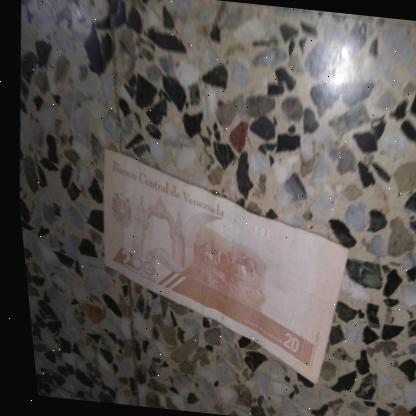twenty-back-vef: (77, 147, 361, 387)
